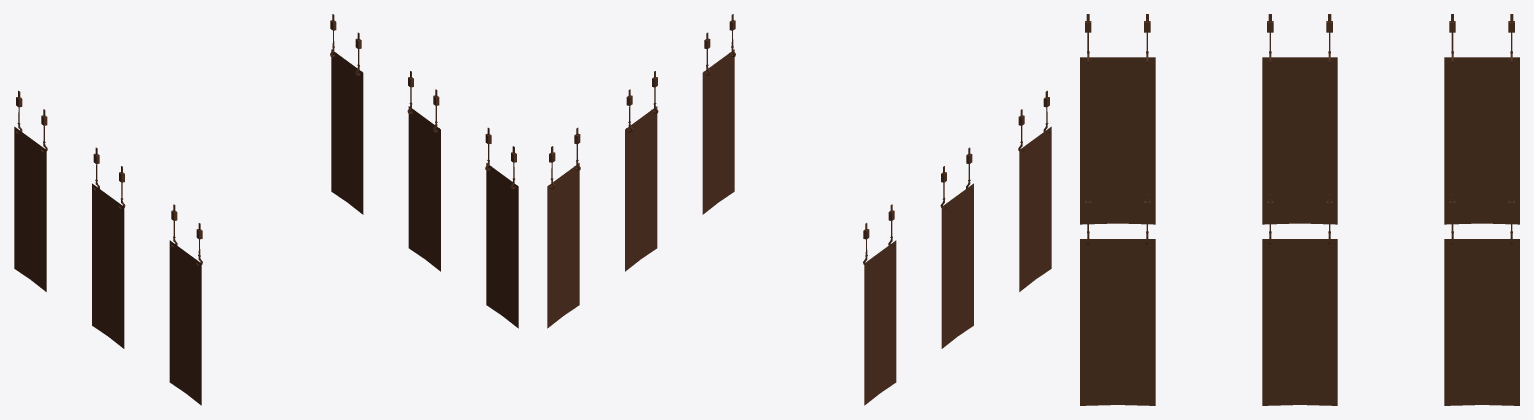
Rendered from Banners.glb.
The picture shows the model from 3 angles, left to right: view 1: azimuth 30°, elevation 25°; view 2: azimuth 150°, elevation 25°; view 3: azimuth 270°, elevation 25°; orthographic projection. The views are drawn at different scales.
Parts seen in each view (by area): view 1: Banners; view 2: Banners; view 3: Banners.
Part boxes in pixels (x1,y1,x2,y2): Banners: [14, 14, 518, 405]; Banners: [547, 14, 1051, 405]; Banners: [1080, 14, 1519, 405].
Size of the model in its own units: 55.99 by 29.94 by 56.56.
